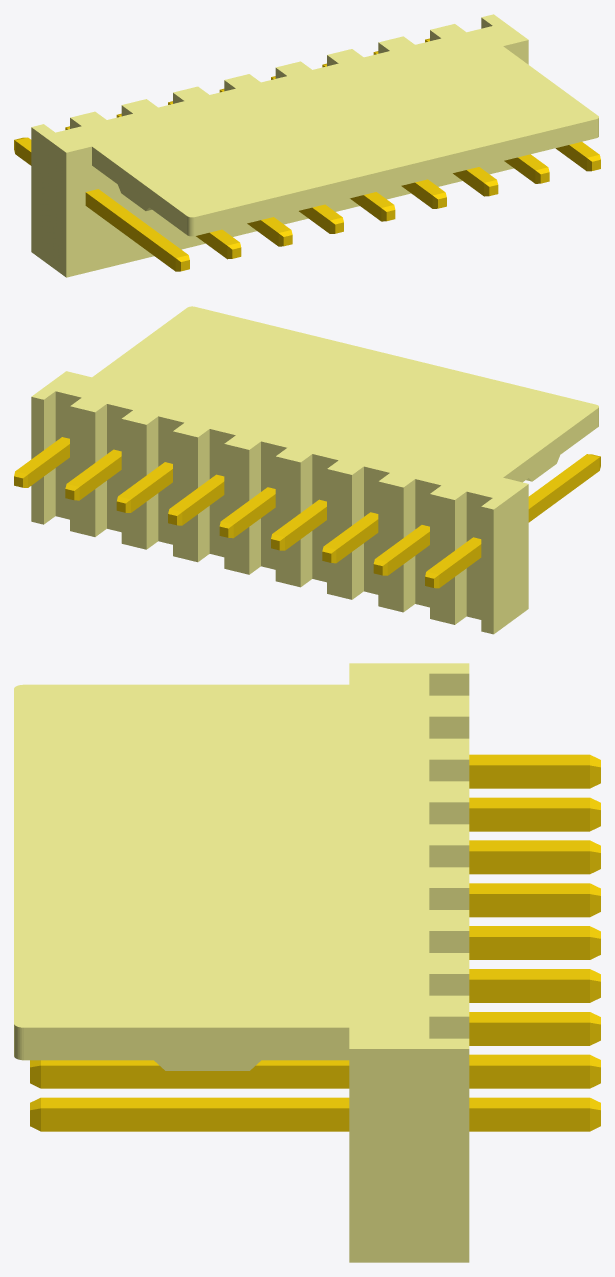
File: DS1070-9 (WF-9 CONNFLY).obj
The picture shows the model from 3 angles, top to bottom: view 1: azimuth 30°, elevation 25°; view 2: azimuth 150°, elevation 25°; view 3: azimuth 270°, elevation 25°; orthographic projection. The views are drawn at different scales.
Parts seen in each view (by area): view 1: DS1070-9_(WF-9_CONNFLY); view 2: DS1070-9_(WF-9_CONNFLY); view 3: DS1070-9_(WF-9_CONNFLY).
Boxes of the visible parts, box(x1,y1,x2,y2) form: DS1070-9_(WF-9_CONNFLY): box(14, 14, 600, 277); DS1070-9_(WF-9_CONNFLY): box(14, 306, 600, 634); DS1070-9_(WF-9_CONNFLY): box(14, 663, 600, 1262).
Size of the model in its own units: 0.0203 by 0.00524 by 0.013.
